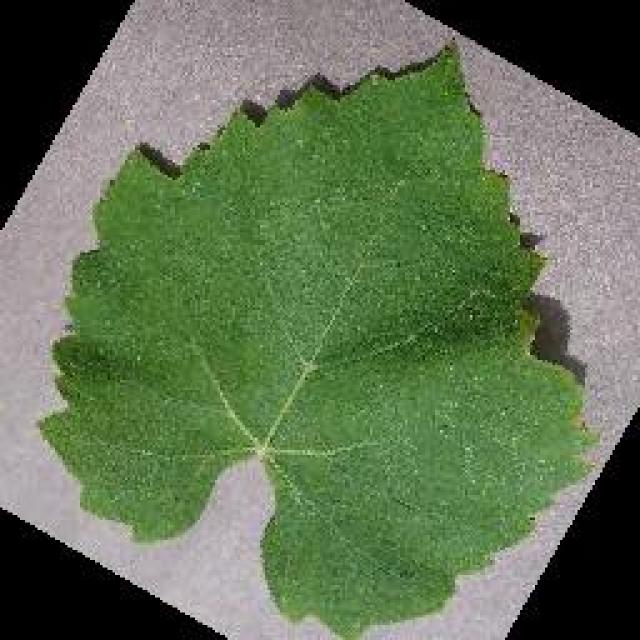Grape___healthy: (31, 34, 606, 638)
